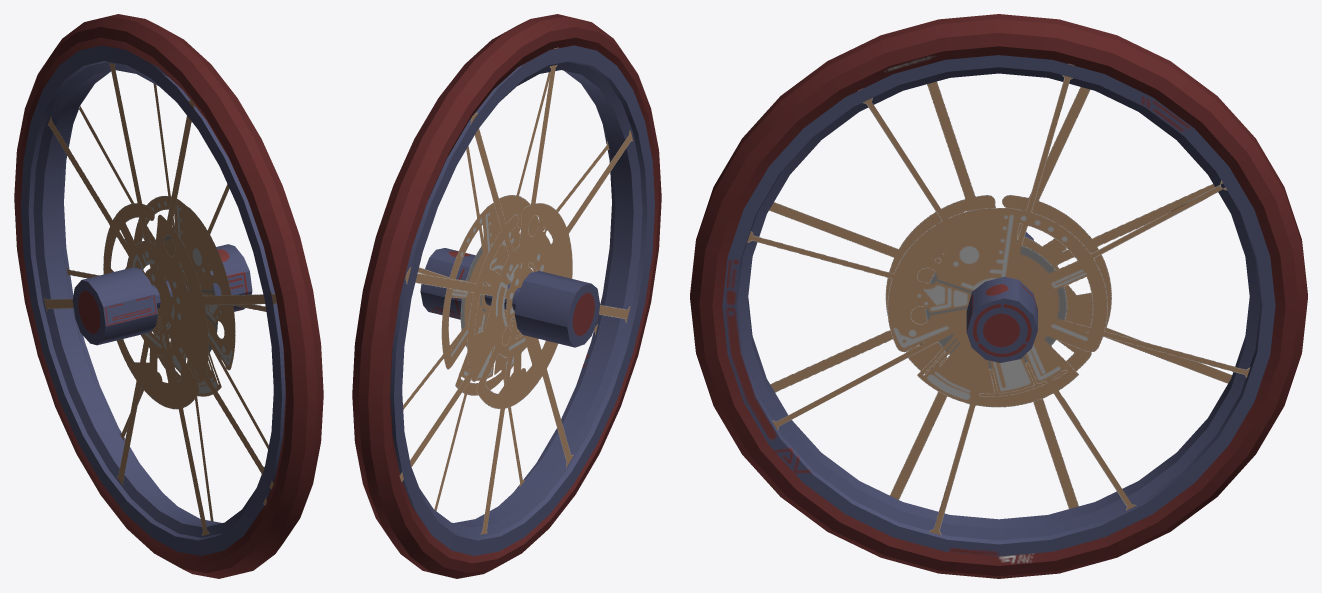
The model's file is llanta_trasera.fbx.
The picture shows the model from 3 angles, left to right: view 1: azimuth 30°, elevation 25°; view 2: azimuth 150°, elevation 25°; view 3: azimuth 270°, elevation 25°; orthographic projection. The views are drawn at different scales.
Parts seen in each view (by area): view 1: whe_trasera; view 2: whe_trasera; view 3: whe_trasera.
Boxes of the visible parts, left/top/right/bottom form: whe_trasera: left=14, top=14, right=323, bottom=578; whe_trasera: left=352, top=14, right=661, bottom=578; whe_trasera: left=690, top=14, right=1307, bottom=578.
Bounding box in the file's own units: 24.16 × 82.09 × 82.09.
